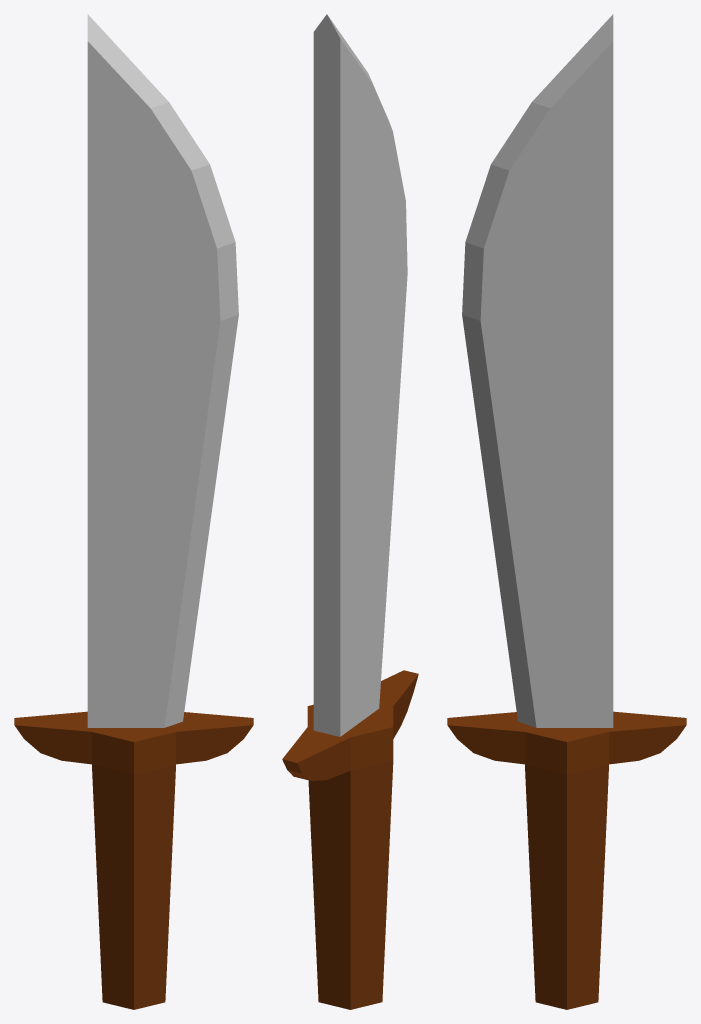
The model's file is Sword.fbx.
The picture shows the model from 3 angles, left to right: view 1: azimuth 90°, elevation 25°; view 2: azimuth 150°, elevation 25°; view 3: azimuth 270°, elevation 25°; orthographic projection.
Parts seen in each view (by area): view 1: Cube; view 2: Cube; view 3: Cube.
Boxes of the visible parts, x1=… form: Cube: x1=14, y1=14, x2=253, y2=1009; Cube: x1=282, y1=14, x2=418, y2=1009; Cube: x1=447, y1=14, x2=686, y2=1009.
Size of the model in its own units: 25.51 by 284 by 62.71.
